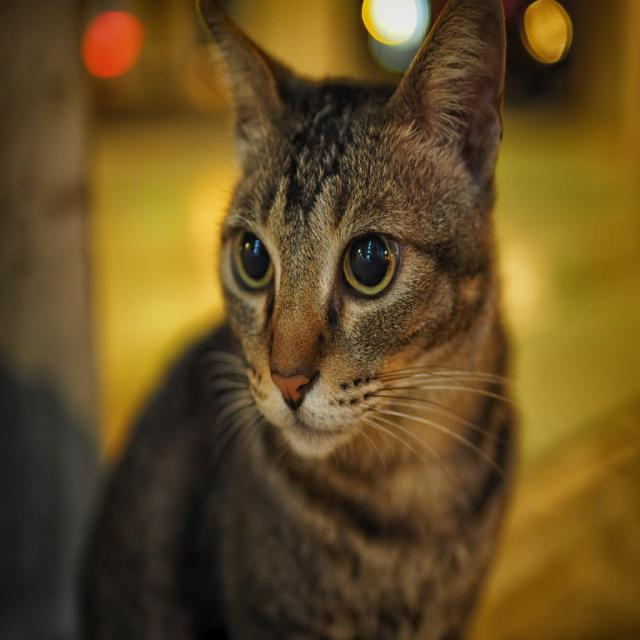Cat: (71, 3, 531, 639)
